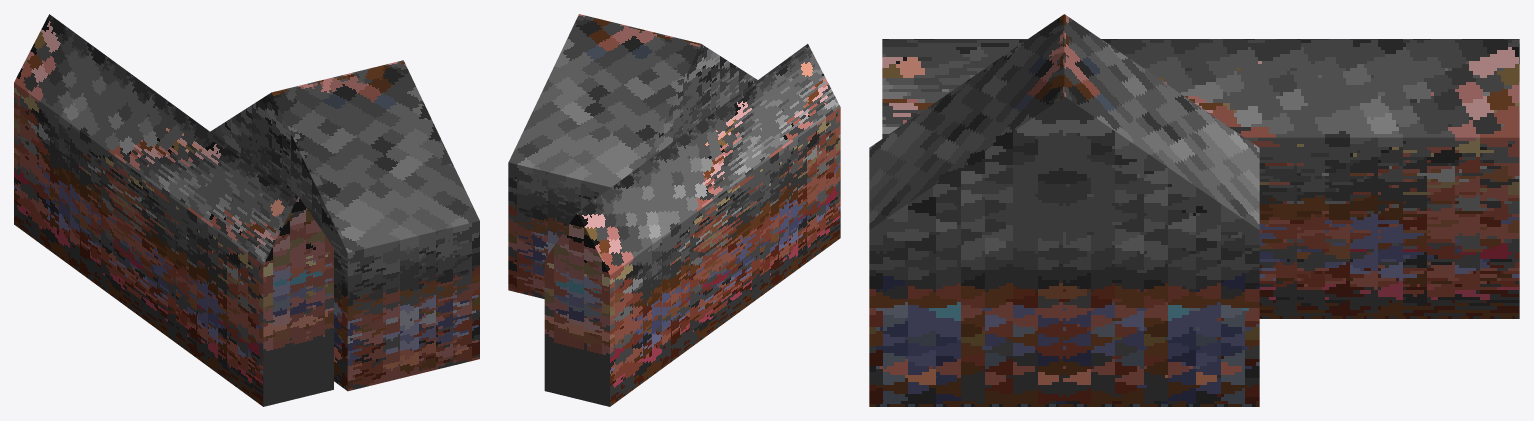
Rendered from dum_2e_domy.glb.
3 renders of one model, left to right at view 1: azimuth 30°, elevation 25°; view 2: azimuth 150°, elevation 25°; view 3: azimuth 270°, elevation 25°, orthographic. The views are drawn at different scales.
Size of the model in its own units: 5.55 by 6.09 by 11.56.
Materials: 1 (1 with a texture image).
